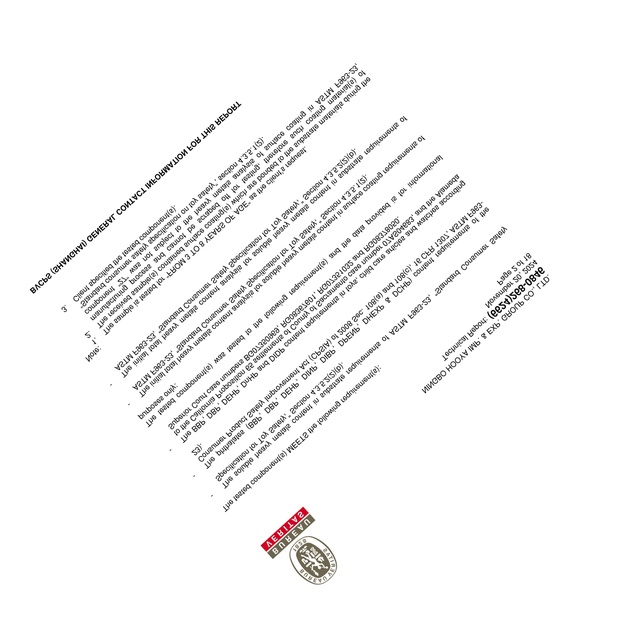bureau_veritas: (256, 501, 340, 591)
